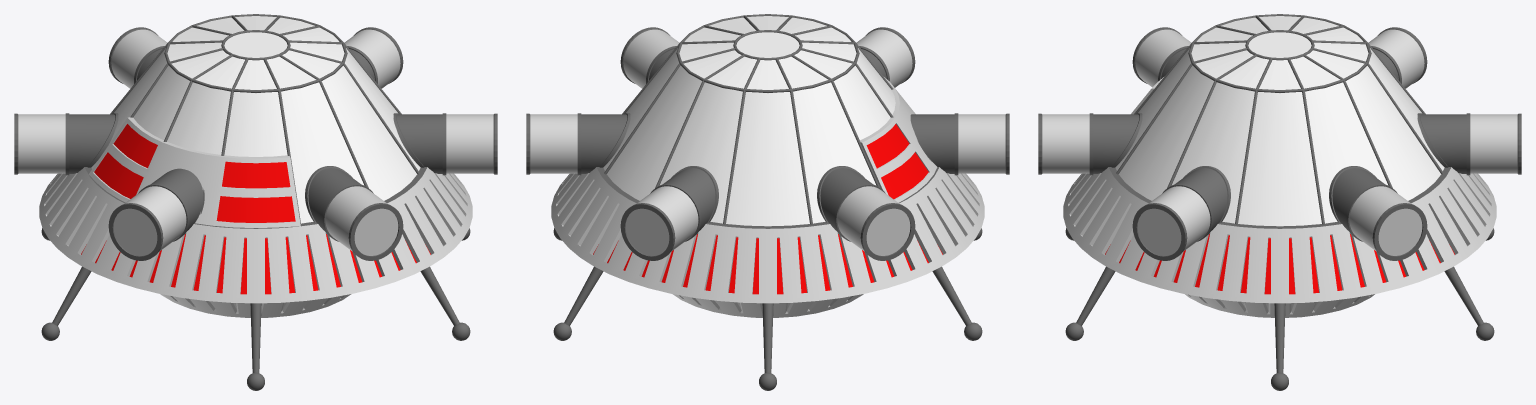
Rendered from B_Champs.fbx.
3 views of the same model, side by side, from view 1: azimuth 30°, elevation 25°; view 2: azimuth 150°, elevation 25°; view 3: azimuth 270°, elevation 25° (orthographic).
Parts seen in each view (by area): view 1: Base004, Connexion (×6); view 2: Base004, Connexion (×6); view 3: Base004, Connexion (×6).
Part boxes in pixels (box(x1,y1,x2,y2)): Base004: box(39, 14, 472, 390); Connexion (×6): box(14, 27, 497, 260); Base004: box(551, 14, 984, 390); Connexion (×6): box(526, 27, 1009, 260); Base004: box(1063, 14, 1496, 390); Connexion (×6): box(1038, 27, 1521, 260).
Size of the model in its own units: 794 by 437 by 780.
